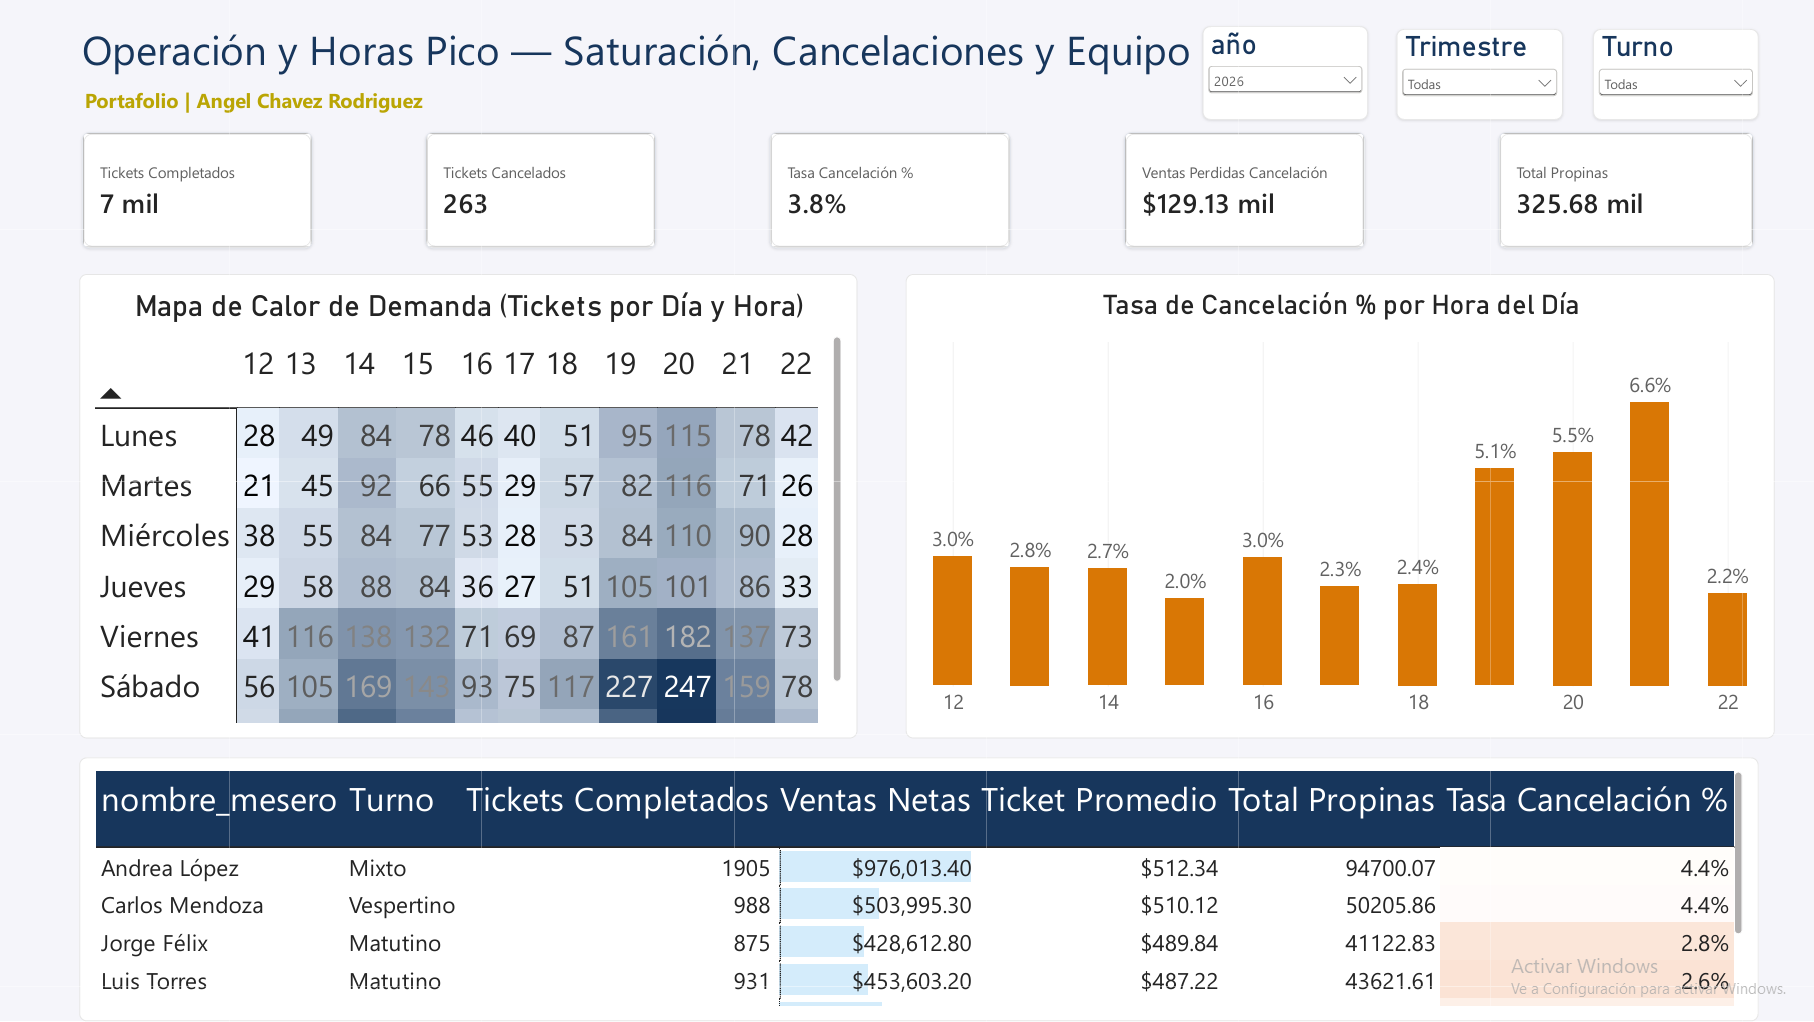

What the dashboard file says about the page in this screenshot:
{"tool":"powerbi","page":{"name":"Operación y Horas Pico","canvas":[1920,1080],"ordinal":2},"visuals":[{"type":"textbox","box":[86.1,21.9,1187.6,96.3],"z":0},{"type":"slicer","fields":{"Values":["dim_calendario.anio"]},"box":[1270.8,27.7,175.1,99.2],"z":1000},{"type":"slicer","fields":{"Values":["dim_calendario.trimestre"]},"box":[1476.5,30.6,175.1,96.3],"z":2000},{"type":"slicer","fields":{"Values":["dim_meseros.Turno"]},"box":[1683.6,30.6,175.1,96.3],"z":3000},{"type":"cardVisual","fields":{"Data":["_Medidas (2).Tickets Completados"]},"box":[86.1,140.1,243.6,122.6],"z":4000},{"type":"cardVisual","fields":{"Data":["_Medidas (2).Tickets Cancelados"]},"box":[449.4,140.1,243.6,122.6],"z":5000},{"type":"cardVisual","fields":{"Data":["_Medidas (2).Tasa Cancelación %"]},"box":[812.6,140.1,255.3,122.6],"z":6000},{"type":"cardVisual","fields":{"Data":["_Medidas (2).Ventas Perdidas Cancelación"]},"box":[1187.6,140.1,255.3,122.6],"z":7000},{"type":"cardVisual","fields":{"Data":["_Medidas (2).Total Propinas"]},"box":[1584.4,140.1,269.9,122.6],"z":8000},{"type":"textbox","box":[89,90.5,805.3,55.4],"z":9000},{"type":"pivotTable","title":"Mapa de Calor de Demanda (Tickets por Día y Hora)","fields":{"Columns":["fact_ventas.hora_dia"],"Rows":["dim_calendario.nombre_dia"],"Values":["_Medidas (2).Tickets Totales"]},"box":[83.2,290.3,822.9,490.2],"z":10000},{"type":"clusteredColumnChart","title":"Tasa de Cancelación % por Hora del Día","fields":{"Category":["fact_ventas.hora_dia"],"Y":["_Medidas (2).Tasa Cancelación %"]},"box":[957.1,290.3,919.1,490.2],"z":11000},{"type":"tableEx","fields":{"Values":["dim_meseros.nombre_mesero","dim_meseros.Turno","_Medidas (2).Tickets Completados","_Medidas (2).Ventas Netas","_Medidas (2).Ticket Promedio","_Medidas (2).Total Propinas","_Medidas (2).Tasa Cancelación %"]},"box":[83.2,801,1775.6,278.7],"z":11001}]}

Visuals, with their boxes in screenshot pixels (x1, y1, x2, y2), scaled from the page's 1920x1080 canvas onto the 1814x1022 screenshot:
textbox: locate(81, 21, 1203, 112)
slicer - dim_calendario.anio: locate(1201, 26, 1366, 120)
slicer - dim_calendario.trimestre: locate(1395, 29, 1560, 120)
slicer - dim_meseros.Turno: locate(1591, 29, 1756, 120)
cardVisual - _Medidas (2).Tickets Completados: locate(81, 133, 311, 249)
cardVisual - _Medidas (2).Tickets Cancelados: locate(425, 133, 655, 249)
cardVisual - _Medidas (2).Tasa Cancelación %: locate(768, 133, 1009, 249)
cardVisual - _Medidas (2).Ventas Perdidas Cancelación: locate(1122, 133, 1363, 249)
cardVisual - _Medidas (2).Total Propinas: locate(1497, 133, 1752, 249)
textbox: locate(84, 86, 845, 138)
"Mapa de Calor de Demanda (Tickets por Día y Hora)" pivotTable: locate(79, 275, 856, 739)
"Tasa de Cancelación % por Hora del Día" clusteredColumnChart: locate(904, 275, 1773, 739)
tableEx - dim_meseros.nombre_mesero x dim_meseros.Turno: locate(79, 758, 1756, 1021)
